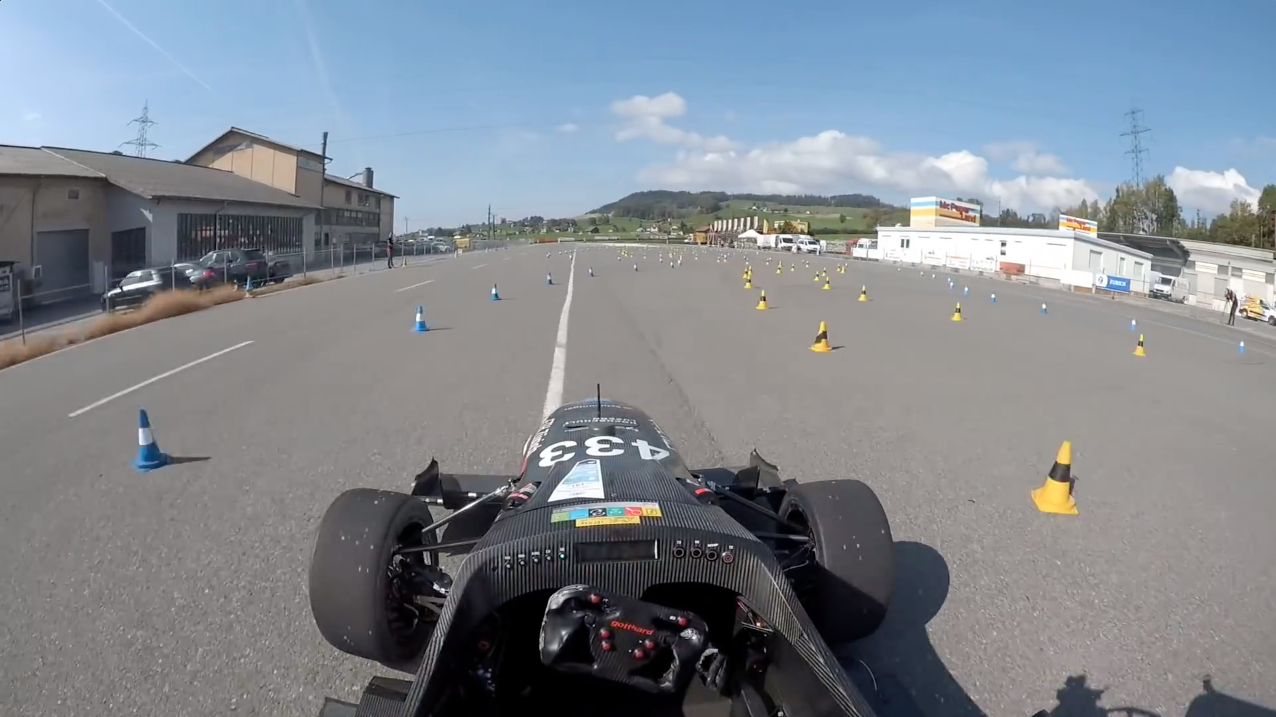lcone: (126, 406, 179, 476), (409, 303, 433, 333), (486, 279, 504, 301)
rcone: (1022, 432, 1090, 521), (809, 318, 838, 356), (754, 286, 774, 313)
